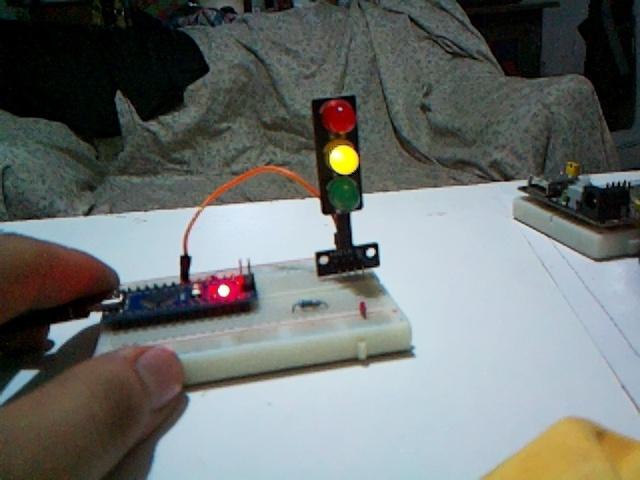traffic_light_yellow: (313, 95, 363, 216)
